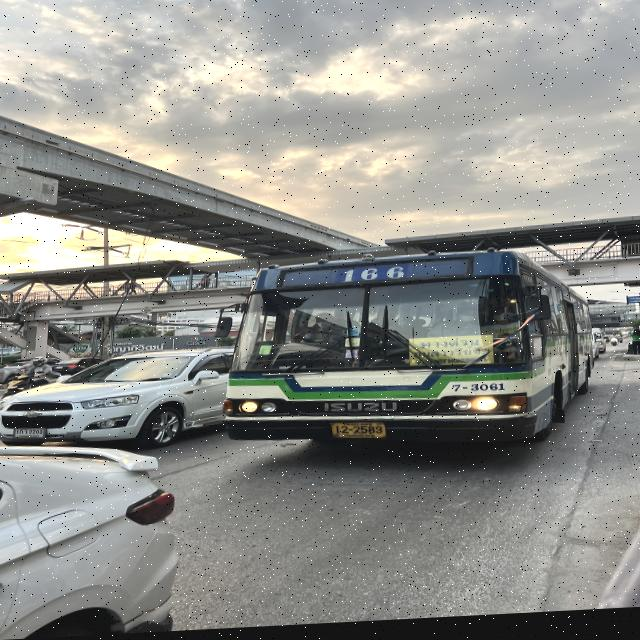BMTA-bus: (222, 252, 592, 464)
Bus-Line-Number: (335, 266, 411, 289)
Destination-Sign-Normal-Expressway: (408, 338, 498, 373)
